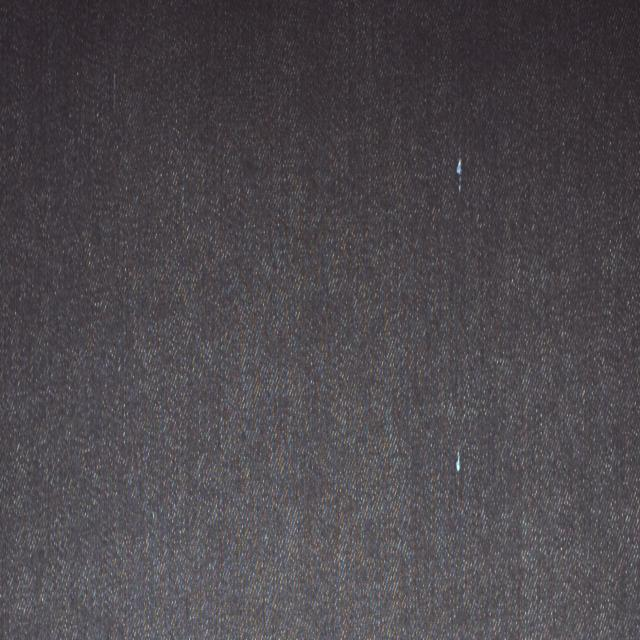Knot: (456, 158, 464, 192), (457, 452, 461, 472)
